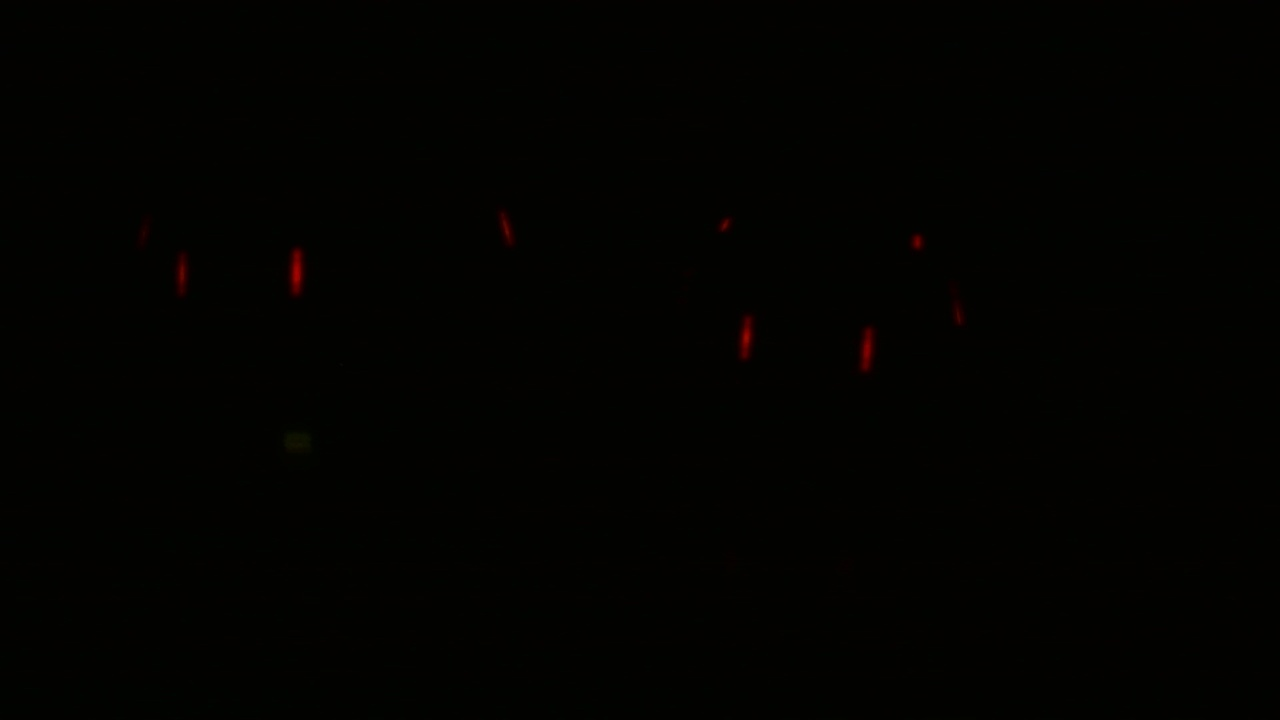pair1: (734, 316, 879, 381), (177, 248, 301, 296)
